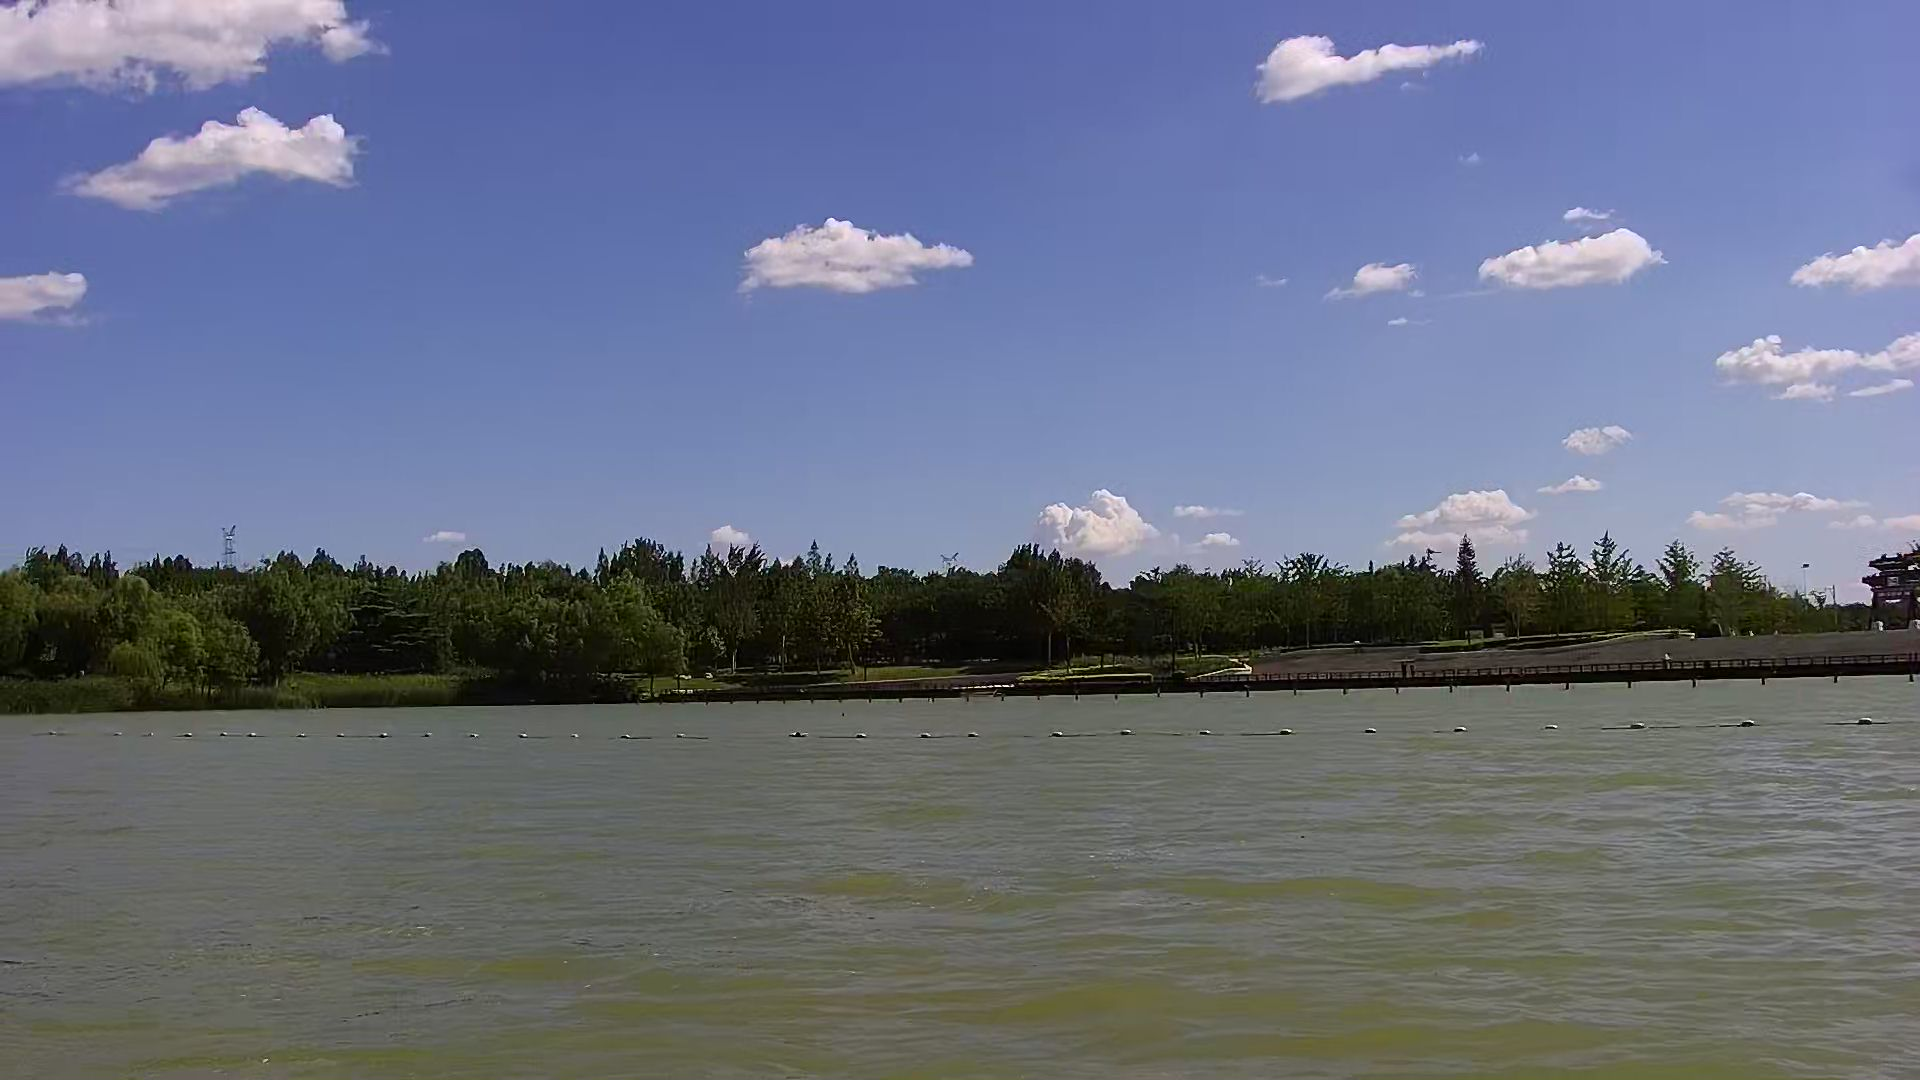ball: (1847, 708, 1890, 735), (1735, 709, 1766, 738), (1625, 709, 1651, 741), (914, 725, 938, 752)
harbor: (1233, 622, 1920, 692)
